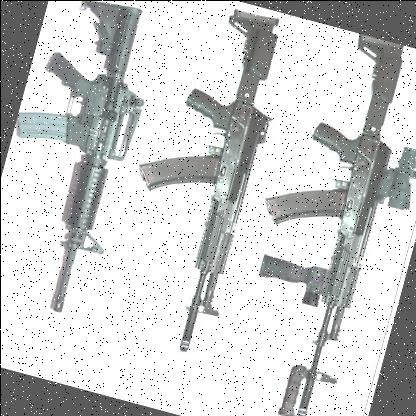rifle: (207, 24, 416, 416), (99, 0, 316, 368), (0, 0, 169, 330)
